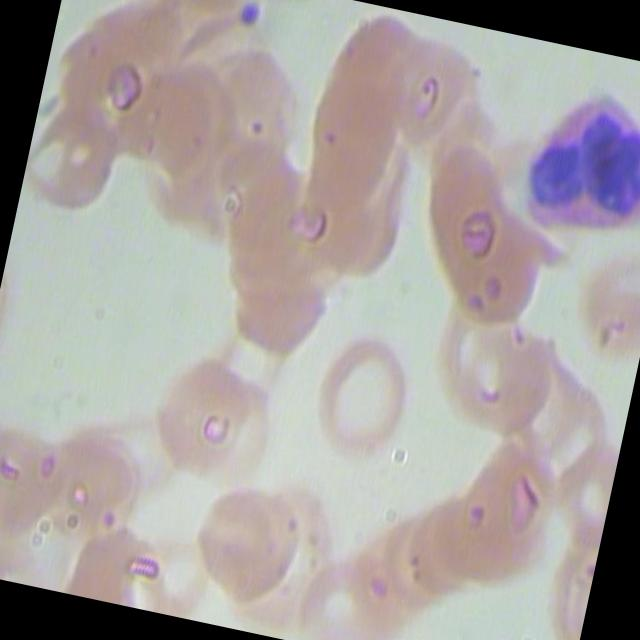Platelets: (231, 0, 269, 34)
RBC: (103, 46, 230, 202), (15, 81, 140, 238), (401, 138, 526, 294), (180, 460, 309, 610), (31, 394, 160, 544), (298, 313, 421, 467), (138, 330, 260, 484), (187, 342, 309, 496), (218, 226, 340, 380), (192, 26, 314, 180), (351, 494, 468, 621), (397, 475, 514, 602), (450, 438, 567, 565), (426, 454, 543, 580), (422, 292, 538, 419), (452, 309, 568, 436), (484, 334, 600, 461), (320, 522, 437, 640), (202, 112, 308, 235), (382, 28, 488, 150), (281, 530, 398, 640), (0, 388, 78, 538), (554, 236, 640, 359)
WBC: (513, 68, 640, 258)
